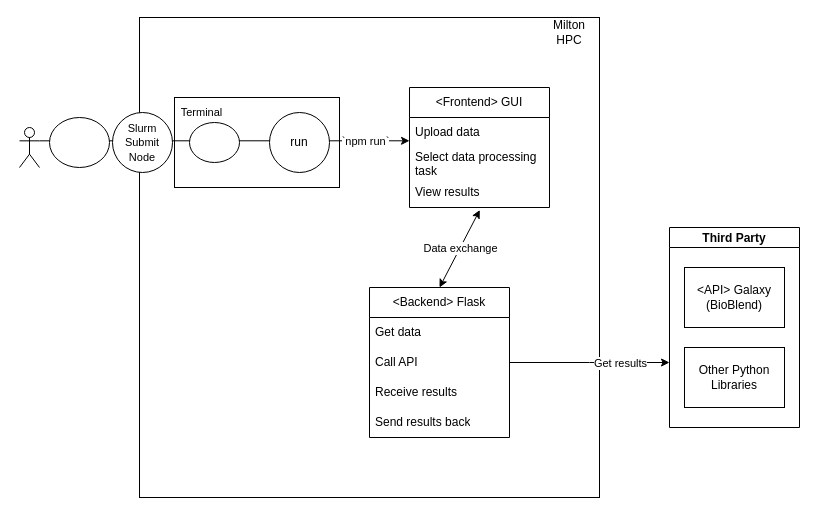
This 817x515 diagram has some shape labels left out. Each missing label, with the centre of its shape:
Git clone: pixel 214 142
OnDemand Login Node: pixel 79 142
User: pixel 29 147
